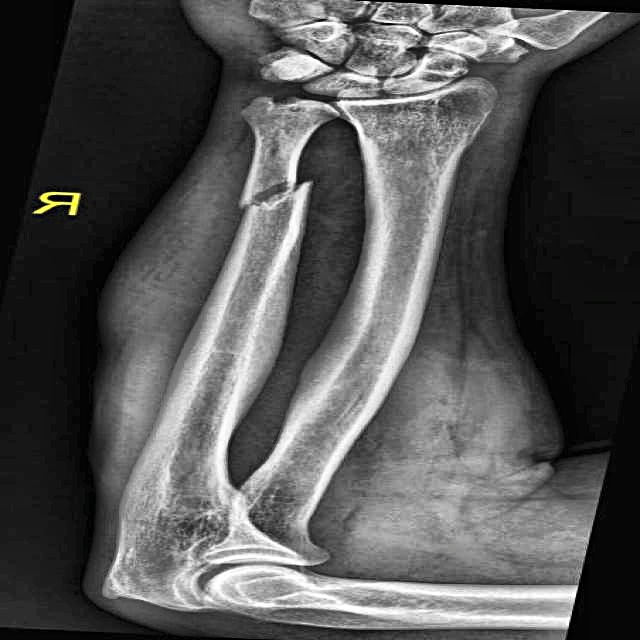Oblique Displaced: (186, 159, 341, 232)
